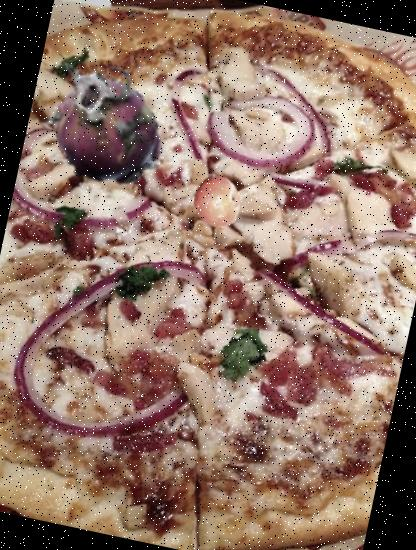Clementine: (184, 168, 249, 233)
Pitahaya: (17, 39, 188, 212)
